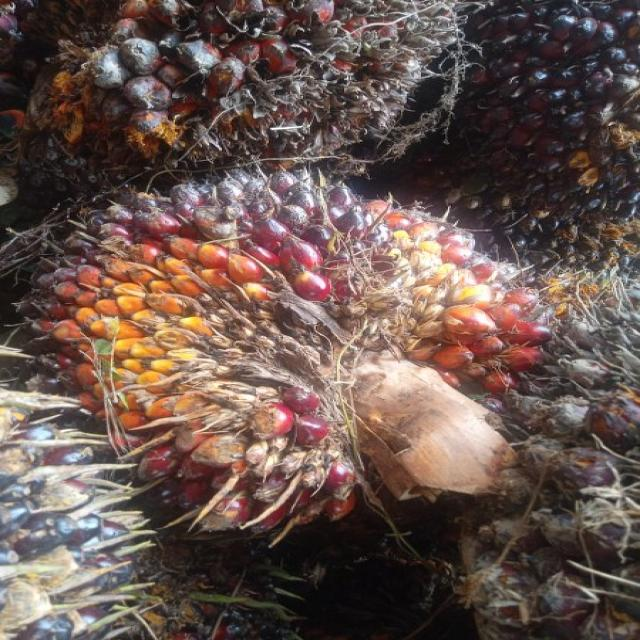fraksi 3: (29, 179, 558, 540)
